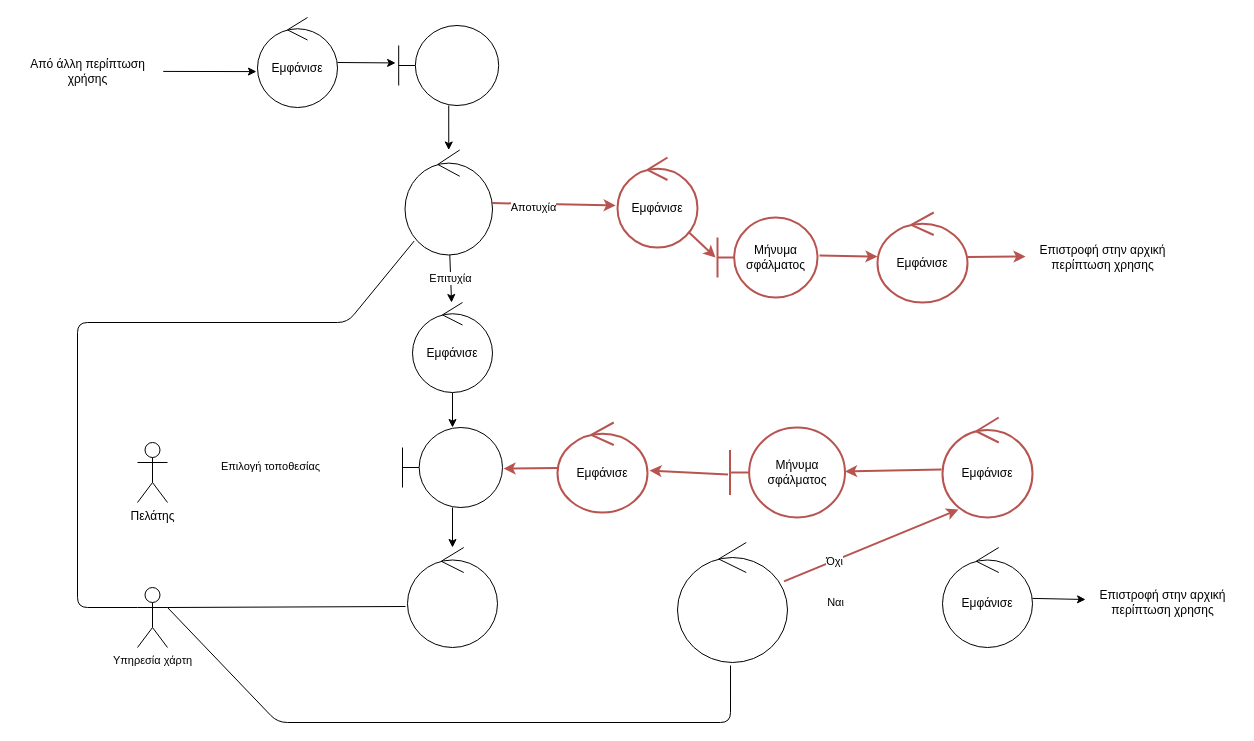
Image size: 1254x741. Some labels were removed from this diagram. The shapes that lost their labels are listed below. From the top down, each one's centre as x and y in pixels, then its label:
(448,65): Οθόνη "Εισαγωγή Τοποθεσίας"
(448,202): Επικοινωνία με υπηρεσία χάρτη
(452,467): Χάρτης
(452,597): Ανάκτηση συντεταγμένων
(732,602): Είναι εντός μιας προκαθορισμένης περιοχής εξυπηρέτησης;
